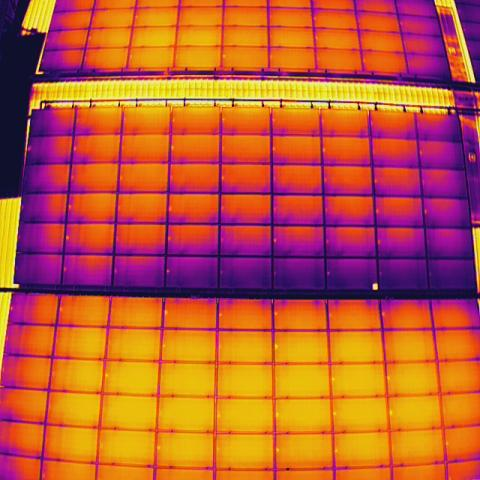fault: (370, 282, 378, 292)
